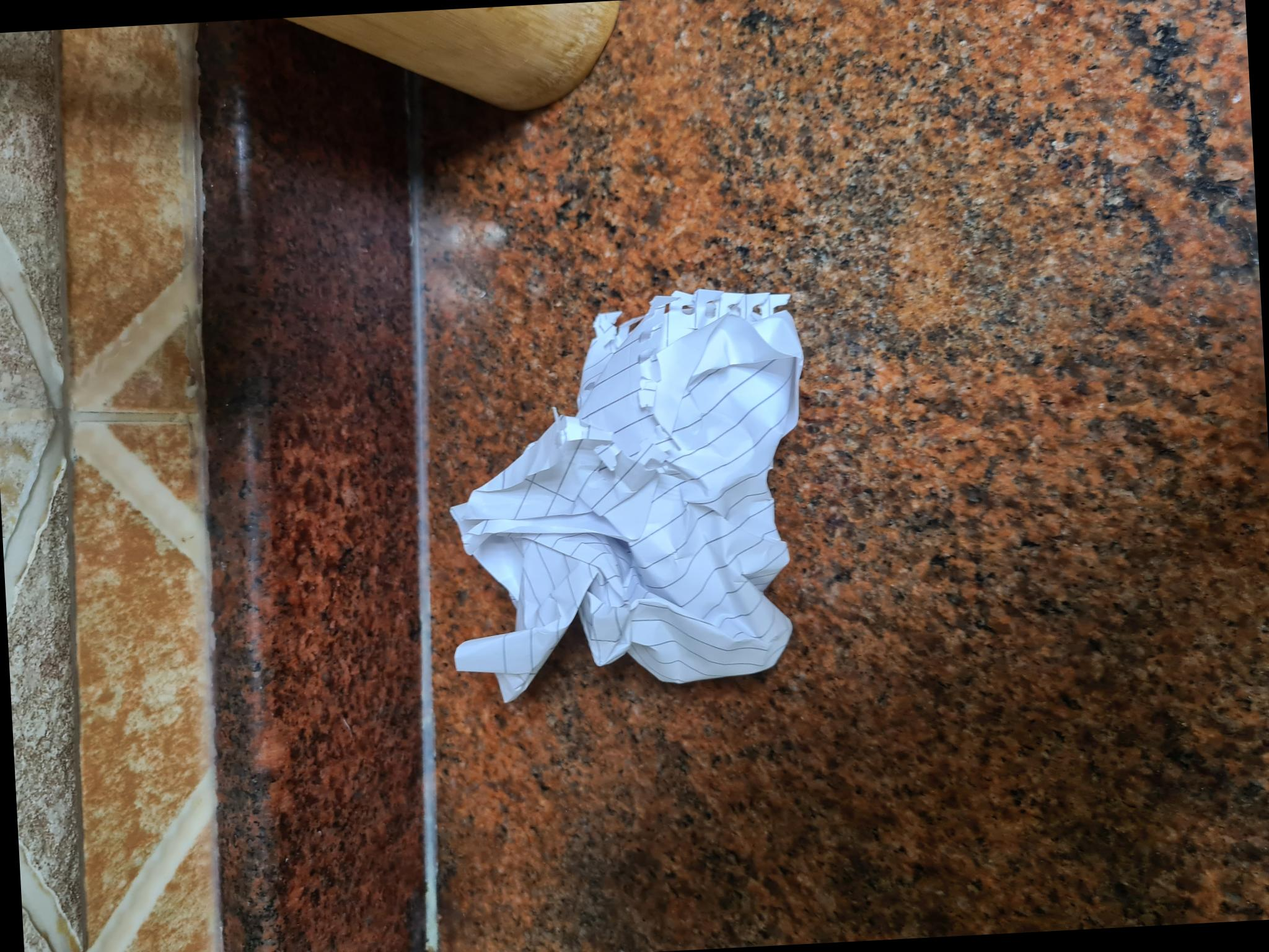Kertas: (264, 449, 687, 812)
